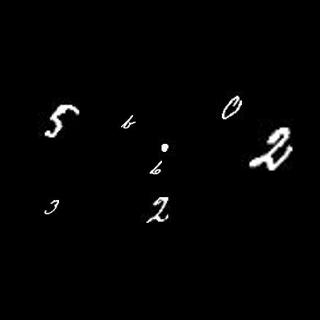dot: (157, 139, 173, 154)
five: (41, 96, 77, 141)
six: (116, 110, 138, 131), (147, 157, 165, 176)
three: (39, 195, 59, 216)
two: (242, 126, 294, 172), (144, 196, 174, 229)
zero: (220, 96, 247, 122)
